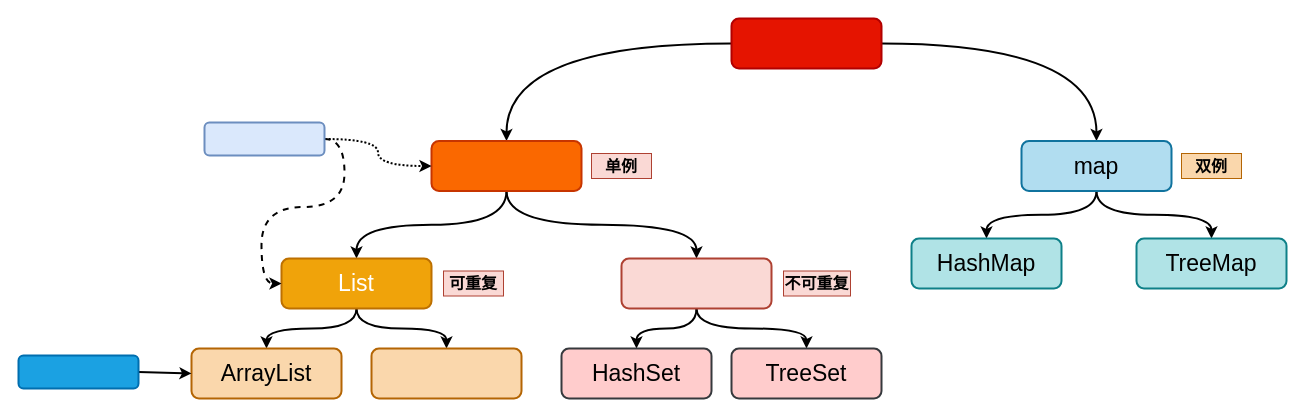
The diagram is 1304 pixels wide and 416 high, and some of its shapes have lost their labels. Here are the shapes that lost their labels. From the top down, the box of each, then its label:
(730, 17, 882, 69): 集合
(203, 121, 325, 156): interface
(430, 140, 582, 192): Collection
(620, 257, 772, 309): Set
(17, 354, 139, 389): class
(370, 347, 522, 399): LinkedList
